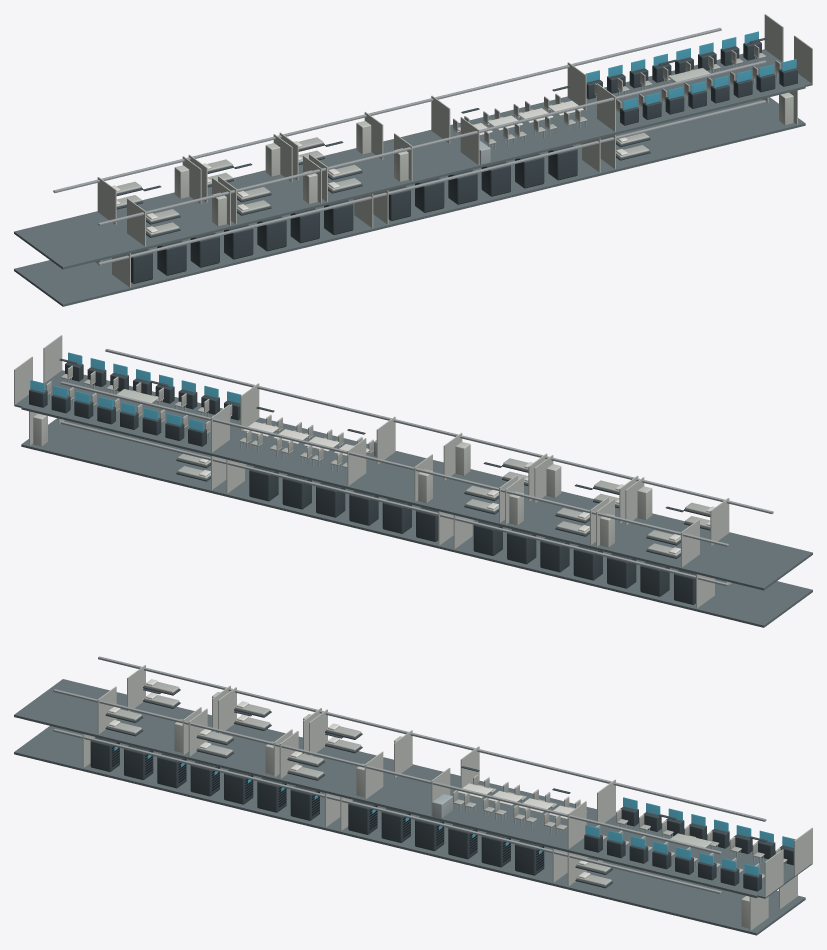
File: ATLAS_N_Interior.glb
3 views of the same model, one above another, from view 1: azimuth 30°, elevation 25°; view 2: azimuth 150°, elevation 25°; view 3: azimuth 330°, elevation 25° (orthographic).
Visible parts, largest first — view 1: INT_GenericArrangement__floor, INT_GenericArrangement__darkdeck, INT_GenericArrangement__interior, INT_Additional_fittings__silver, INT_GenericArrangement__fabric, INT_GenericArrangement__screen, INT_GenericArrangement__white, INT_GenericArrangement__chrome; view 2: INT_GenericArrangement__floor, INT_GenericArrangement__darkdeck, INT_GenericArrangement__interior, INT_Additional_fittings__silver, INT_GenericArrangement__fabric, INT_GenericArrangement__screen, INT_GenericArrangement__white, INT_GenericArrangement__chrome; view 3: INT_GenericArrangement__floor, INT_GenericArrangement__darkdeck, INT_GenericArrangement__interior, INT_Additional_fittings__silver, INT_GenericArrangement__fabric, INT_GenericArrangement__screen, INT_GenericArrangement__white, INT_GenericArrangement__black, INT_GenericArrangement__chrome.
Boxes of the visible parts, left/top/right/bottom form: INT_GenericArrangement__floor: left=14, top=49, right=812, bottom=306; INT_GenericArrangement__darkdeck: left=116, top=41, right=797, bottom=283; INT_GenericArrangement__interior: left=95, top=14, right=812, bottom=287; INT_Additional_fittings__silver: left=53, top=28, right=766, bottom=265; INT_GenericArrangement__fabric: left=116, top=44, right=781, bottom=235; INT_GenericArrangement__screen: left=585, top=31, right=796, bottom=110; INT_GenericArrangement__white: left=112, top=100, right=627, bottom=232; INT_GenericArrangement__chrome: left=454, top=57, right=777, bottom=164; INT_GenericArrangement__floor: left=14, top=370, right=812, bottom=627; INT_GenericArrangement__darkdeck: left=29, top=362, right=710, bottom=604; INT_GenericArrangement__interior: left=14, top=335, right=731, bottom=608; INT_Additional_fittings__silver: left=60, top=349, right=773, bottom=586; INT_GenericArrangement__fabric: left=45, top=365, right=710, bottom=556; INT_GenericArrangement__screen: left=30, top=352, right=241, bottom=431; INT_GenericArrangement__white: left=199, top=421, right=714, bottom=553; INT_GenericArrangement__chrome: left=49, top=378, right=376, bottom=473; INT_GenericArrangement__floor: left=14, top=679, right=812, bottom=935; INT_GenericArrangement__darkdeck: left=90, top=686, right=793, bottom=891; INT_GenericArrangement__interior: left=82, top=665, right=812, bottom=930; INT_Additional_fittings__silver: left=53, top=656, right=766, bottom=893; INT_GenericArrangement__fabric: left=106, top=682, right=787, bottom=885; INT_GenericArrangement__screen: left=114, top=747, right=795, bottom=875; INT_GenericArrangement__white: left=108, top=679, right=590, bottom=878; INT_GenericArrangement__black: left=112, top=743, right=543, bottom=870; INT_GenericArrangement__chrome: left=432, top=791, right=786, bottom=882.
Size of the model in its own units: 49.53 by 4.69 by 5.6.
Materials: 9 (1 with a texture image).
